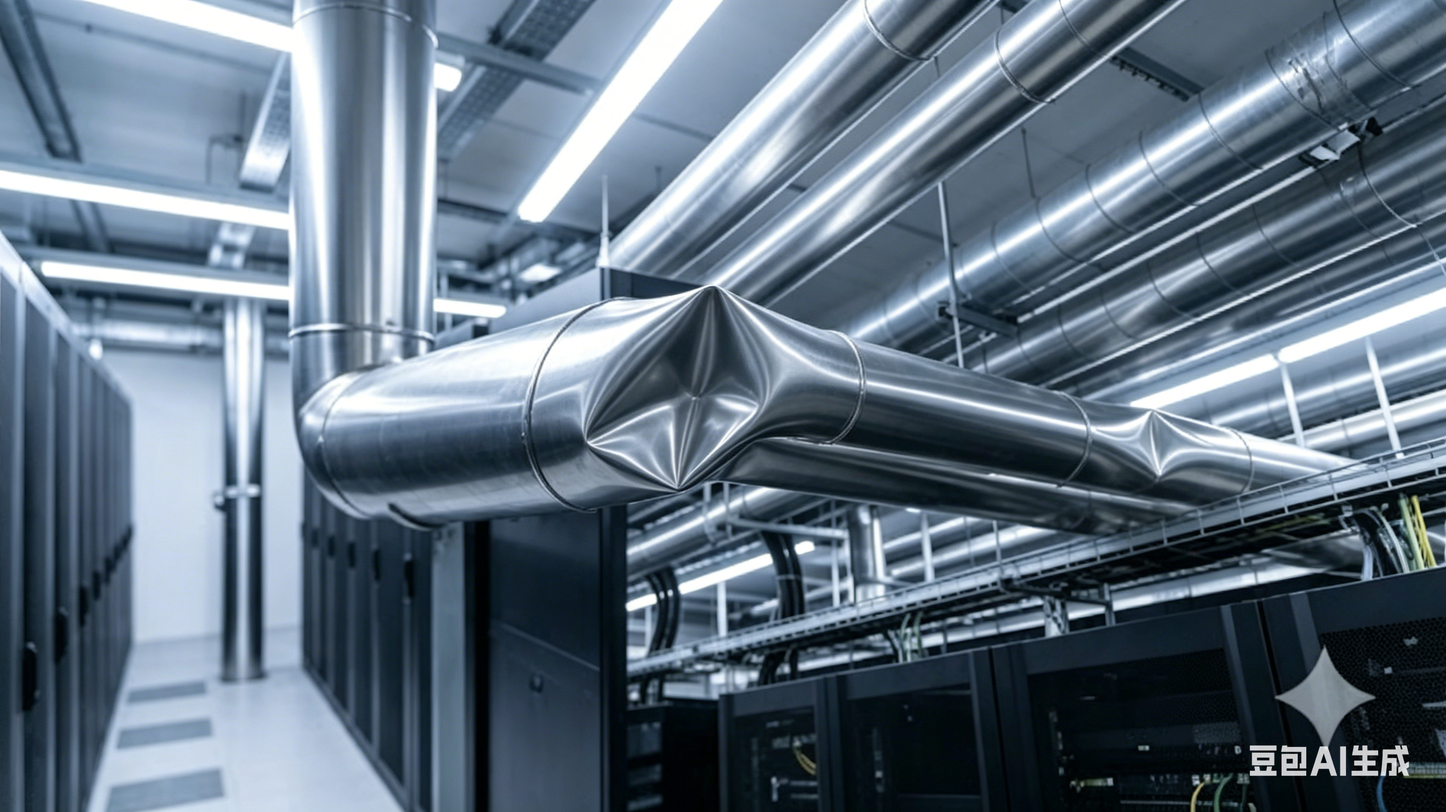Leakage: (571, 272, 797, 509), (1087, 396, 1229, 508)
